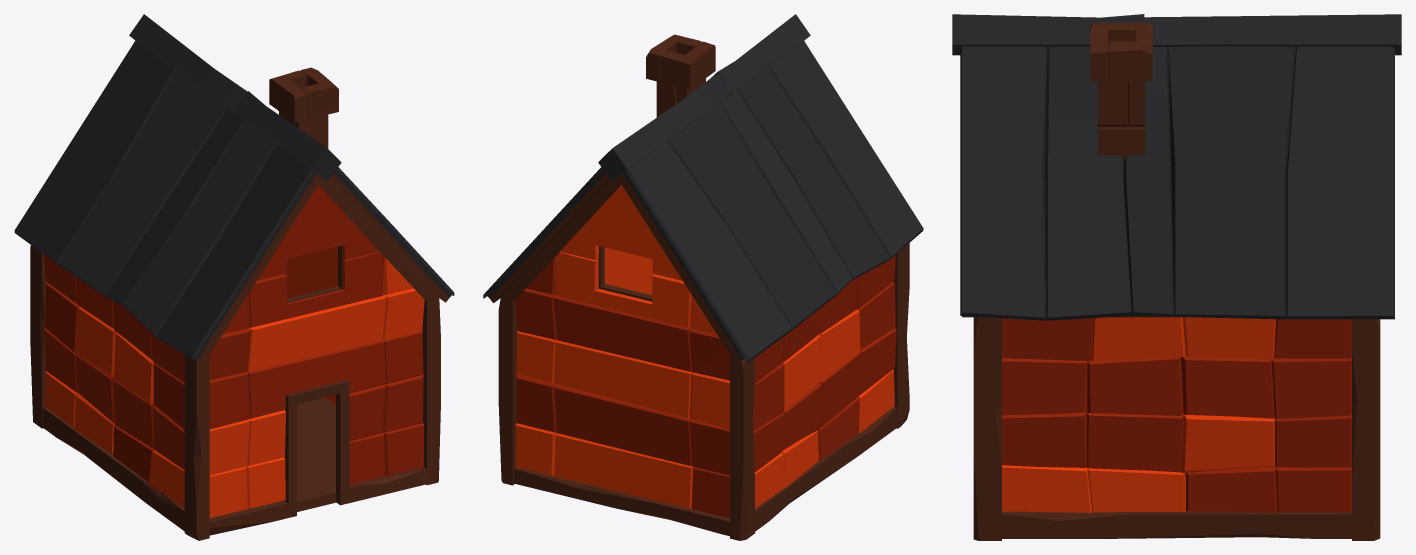
Rendered from Warehouse.fbx.
The picture shows the model from 3 angles, left to right: view 1: azimuth 30°, elevation 25°; view 2: azimuth 150°, elevation 25°; view 3: azimuth 270°, elevation 25°; orthographic projection. The views are drawn at different scales.
Parts seen in each view (by area): view 1: Warehouse; view 2: Warehouse; view 3: Warehouse.
Part boxes in pixels (x1,y1,x2,y2): Warehouse: (14, 14, 454, 540); Warehouse: (483, 14, 923, 540); Warehouse: (952, 14, 1401, 540).
Size of the model in its own units: 131 by 175 by 155.
